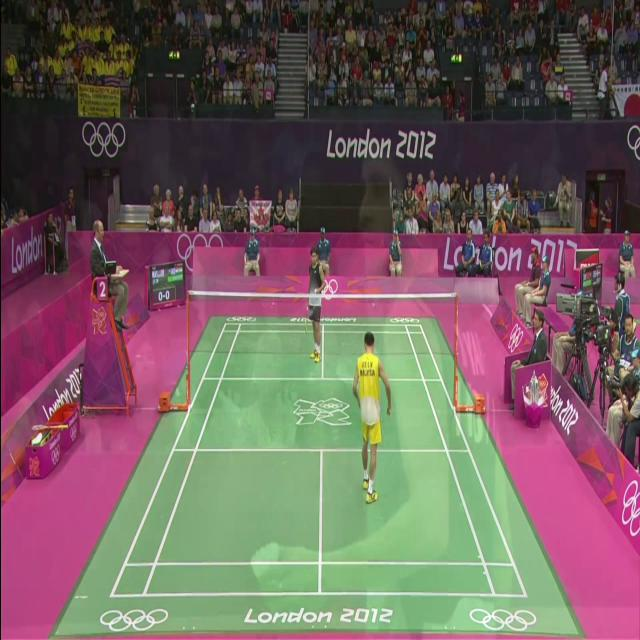Net: (190, 290, 458, 380)
Player1: (346, 314, 404, 523)
Player2: (298, 228, 330, 372)
